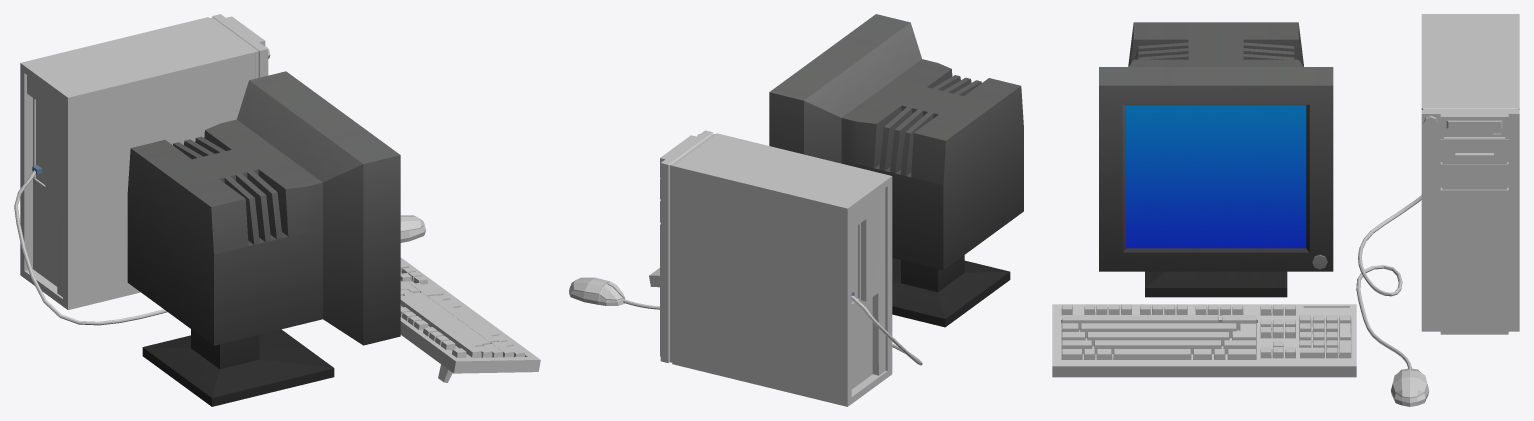
Rendered from SM_pcParts.fbx.
The picture shows the model from 3 angles, left to right: view 1: azimuth 30°, elevation 25°; view 2: azimuth 150°, elevation 25°; view 3: azimuth 270°, elevation 25°; orthographic projection. The views are drawn at different scales.
Visible parts, largest first — view 1: computerScreen, computer, keyboard4, mouseCable, mouse; view 2: computer, computerScreen, mouse, mouseCable; view 3: computerScreen, computer, keyboard4, mouseCable, mouse.
Part boxes in pixels (x1,y1,x2,y2): computerScreen: [127, 71, 400, 406]; computer: [20, 14, 270, 309]; keyboard4: [400, 257, 540, 382]; mouseCable: [14, 165, 167, 325]; mouse: [400, 215, 425, 242]; computer: [660, 130, 892, 406]; computerScreen: [769, 14, 1023, 327]; mouse: [569, 277, 625, 305]; mouseCable: [623, 292, 922, 365]; computerScreen: [1099, 22, 1333, 297]; computer: [1421, 14, 1519, 334]; keyboard4: [1052, 304, 1356, 377]; mouseCable: [1356, 195, 1421, 369]; mouse: [1391, 368, 1429, 406].
Bounding box in the file's own units: 0.7653 × 0.4436 × 0.7972.
